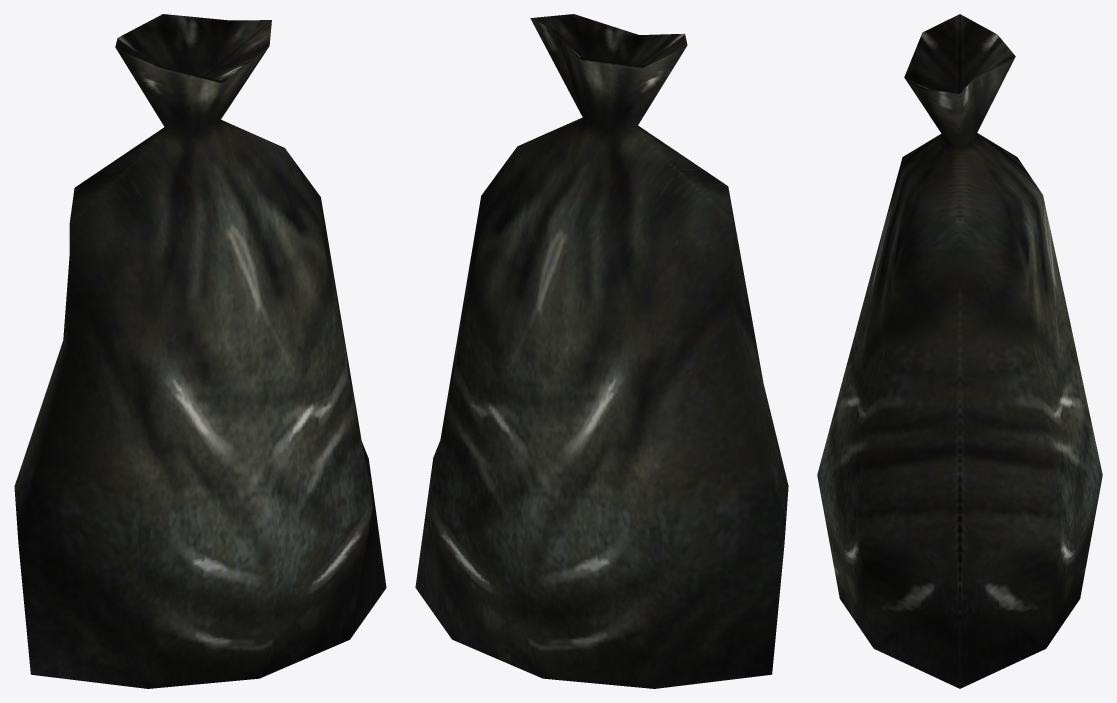
File: trashbag1.glb
3 views of the same model, side by side, from view 1: azimuth 30°, elevation 25°; view 2: azimuth 150°, elevation 25°; view 3: azimuth 270°, elevation 25° (orthographic). The views are drawn at different scales.
Parts seen in each view (by area): view 1: bag; view 2: bag; view 3: bag.
Part boxes in pixels (x1,y1,x2,y2): bag: [14, 14, 386, 688]; bag: [415, 14, 788, 688]; bag: [817, 14, 1102, 688].
Size of the model in its own units: 28.19 by 46.64 by 20.75.
1 material, 1 textured.
